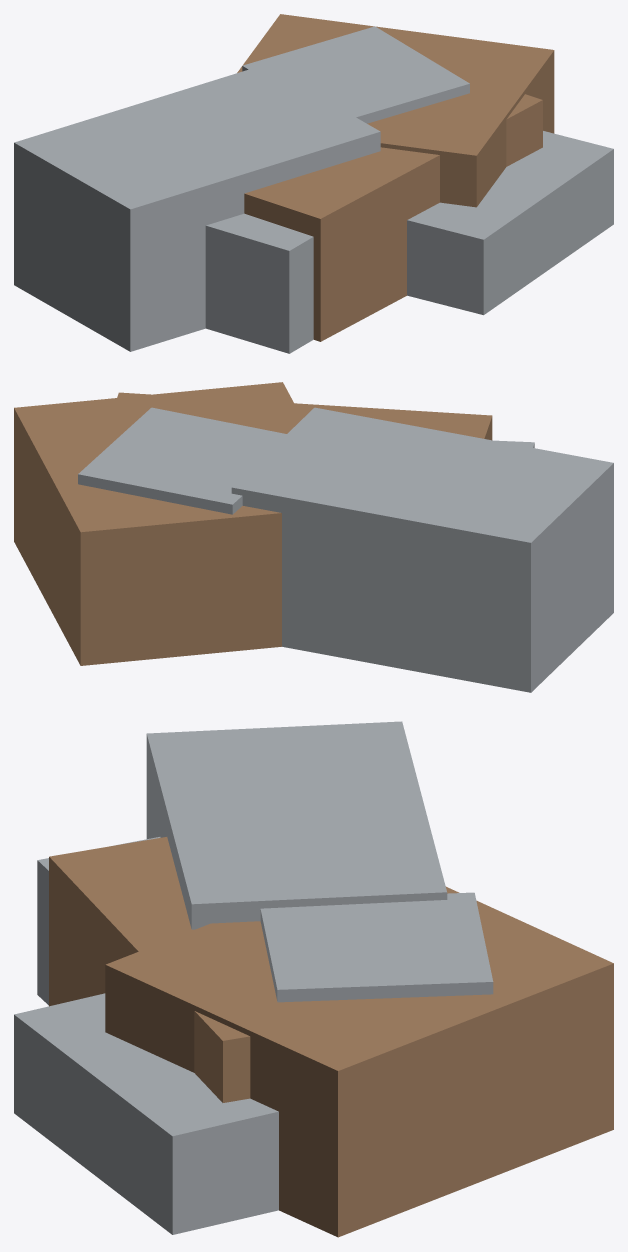
File: scrap.glb
3 renders of one model, top to bottom at view 1: azimuth 30°, elevation 25°; view 2: azimuth 150°, elevation 25°; view 3: azimuth 270°, elevation 25°, orthographic. The views are drawn at different scales.
Visible parts, largest first — view 1: Bit2, Bit0, Bit1, Bit3, Bit6, Bit4; view 2: Bit2, Bit3, Bit4, Bit1; view 3: Bit3, Bit2, Bit0, Bit4, Bit1, Bit6.
Boxes of the visible parts, bbox=[...] form: Bit2: bbox=[14, 65, 380, 351]; Bit0: bbox=[407, 131, 613, 315]; Bit1: bbox=[244, 94, 542, 341]; Bit3: bbox=[237, 14, 554, 207]; Bit6: bbox=[205, 213, 313, 353]; Bit4: bbox=[242, 26, 469, 123]; Bit2: bbox=[231, 407, 613, 692]; Bit3: bbox=[14, 382, 302, 665]; Bit4: bbox=[78, 407, 286, 514]; Bit1: bbox=[117, 392, 492, 440]; Bit3: bbox=[105, 886, 613, 1237]; Bit2: bbox=[146, 721, 447, 929]; Bit0: bbox=[14, 993, 278, 1234]; Bit4: bbox=[260, 892, 493, 1002]; Bit1: bbox=[49, 837, 250, 1102]; Bit6: bbox=[37, 837, 160, 1005].
Size of the model in its own units: 1.09 by 0.2868 by 0.836.
